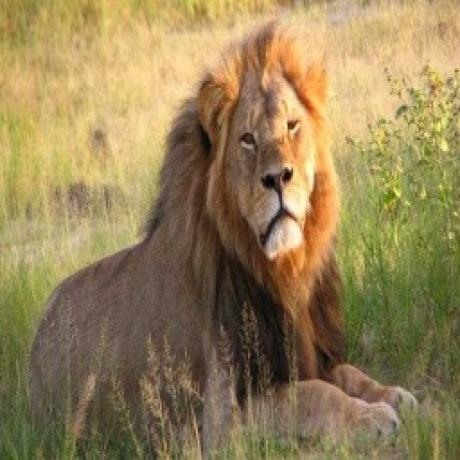Lion: (26, 10, 424, 448)
